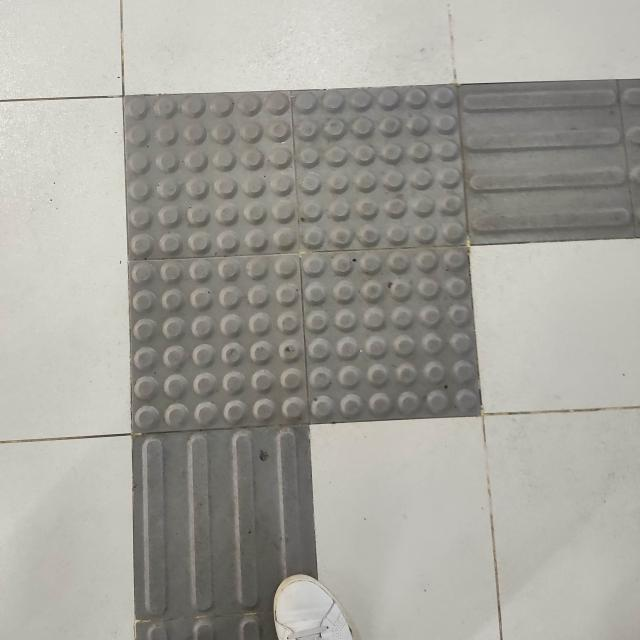kanan: (72, 41, 640, 535)
